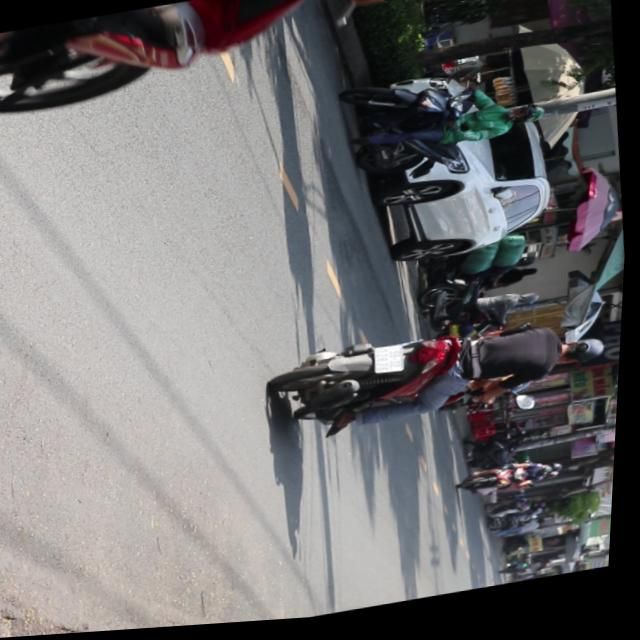helmet: (510, 106, 548, 132)
licenseplate: (269, 304, 618, 449), (336, 56, 560, 189)
motorcyclist: (562, 340, 611, 374)
nohelmet: (376, 348, 410, 378)
